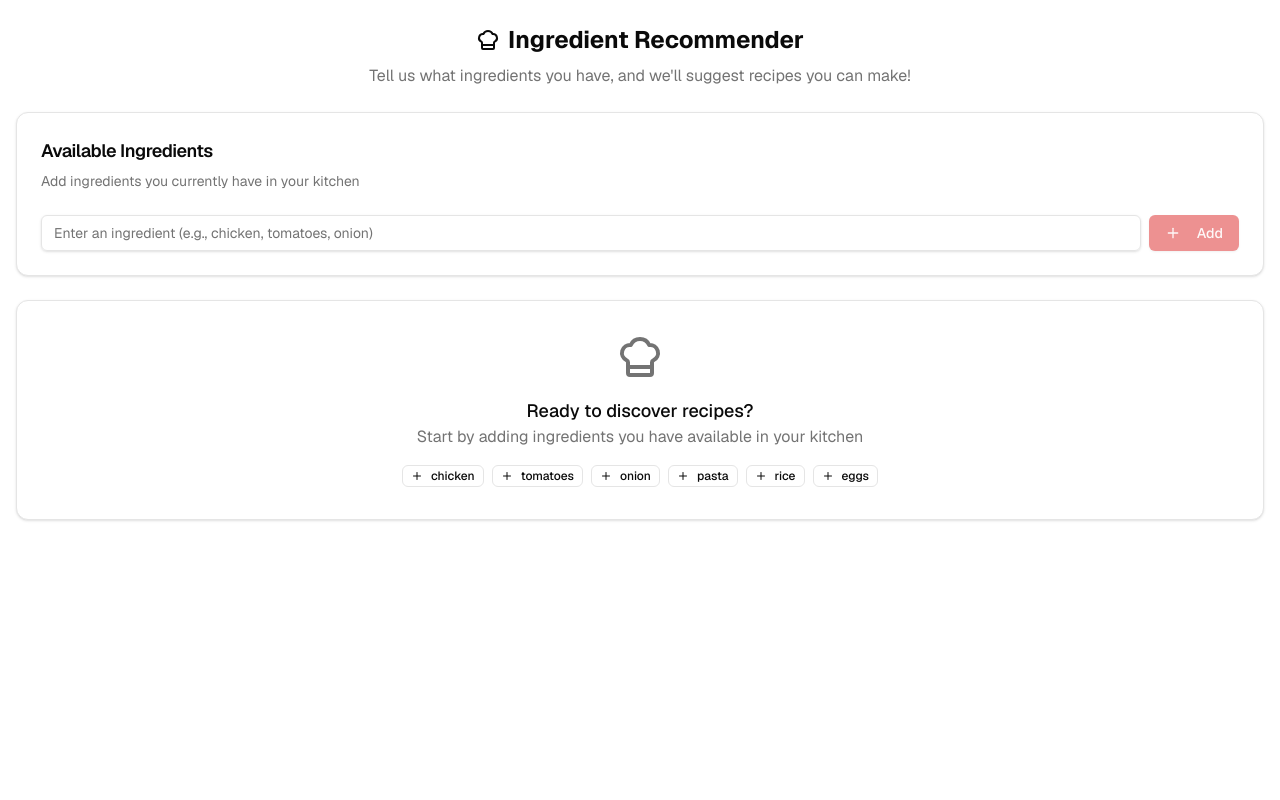
IngredientRecommender › UI State Management › should handle empty recommendations state
The image size is (1280, 800).
Type "rareingredient" into the field with placeholder "Enter an ingredient (e.g., chicken, tomatoes, onion)" at (591, 233), box [41,215,1141,251]
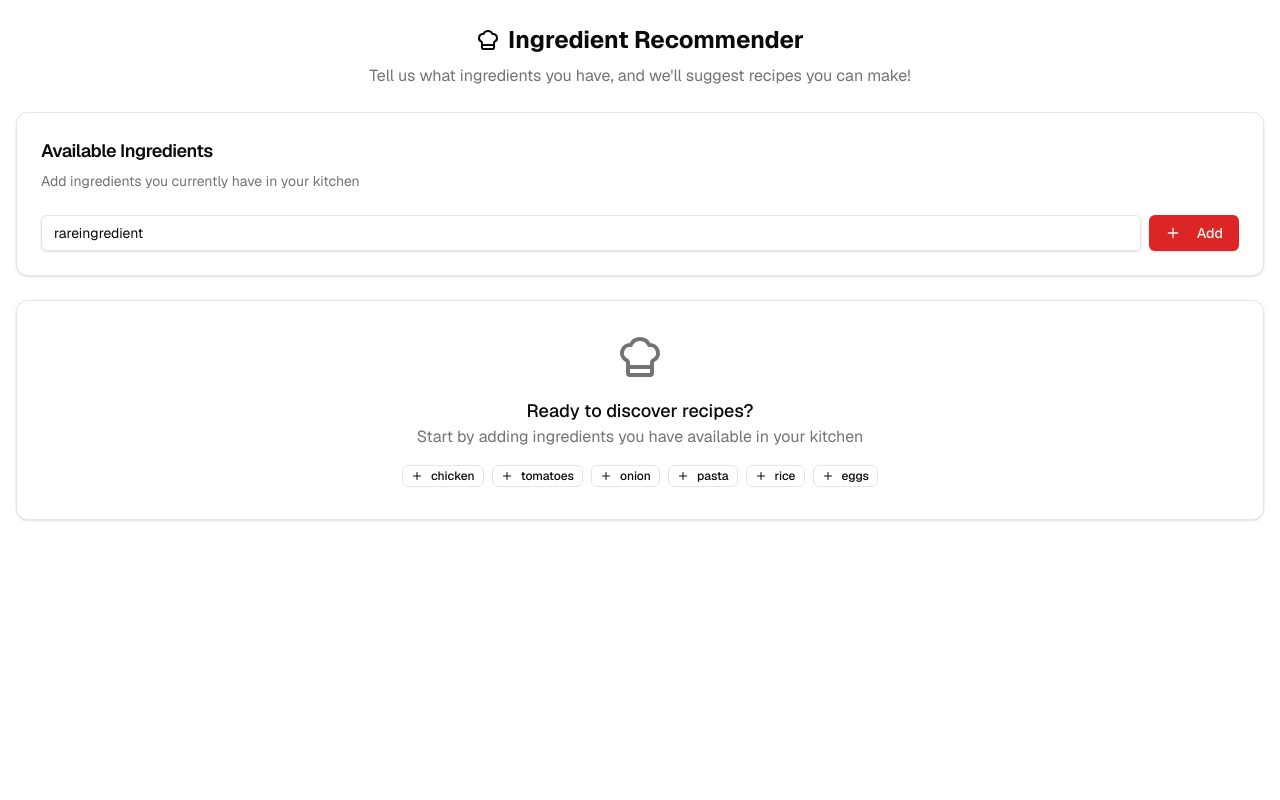
Click the button at (1194, 233), box [1149,215,1239,251]
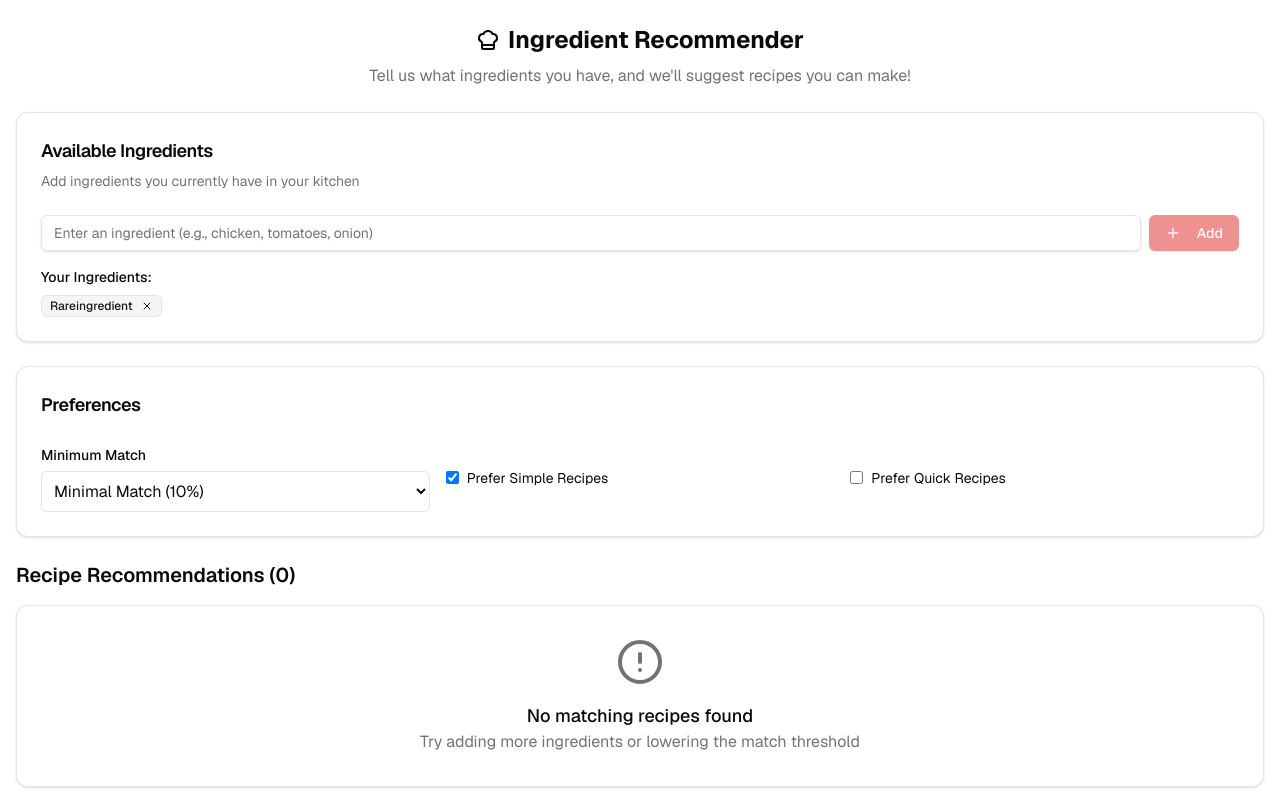
expect the text "No matching recipes found" is shown: met, box [527,704,753,727]
